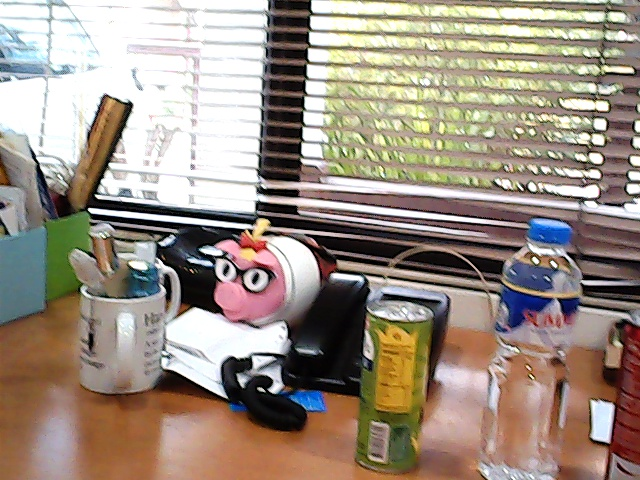Pine Juice: (353, 285, 438, 475)
Summit Water: (477, 213, 588, 478)
